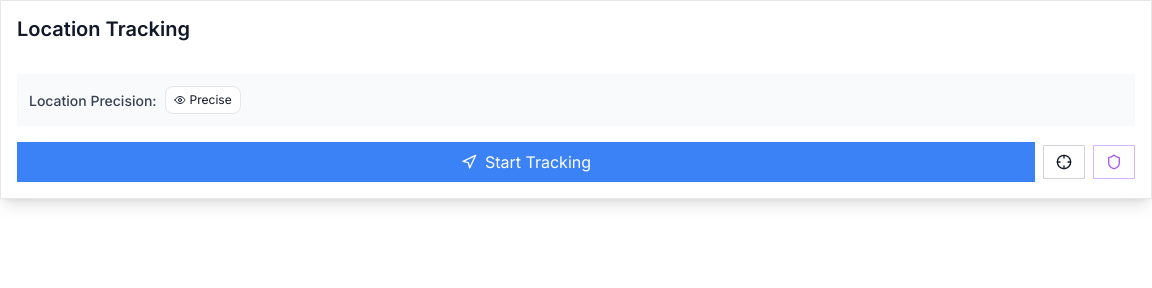
Test case: LocationTracker › shows location error when permission denied
Click the button "Start Tracking": (526, 162) [17,142,1035,182]
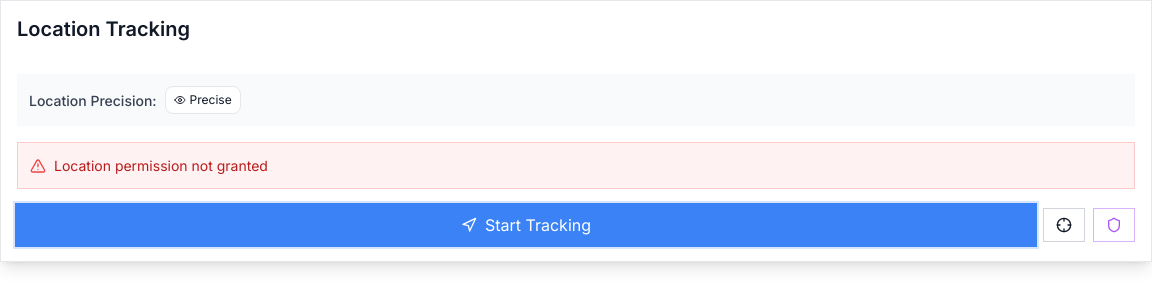
Expected: the text "Location permission not granted" is shown, [54,155,268,176]
